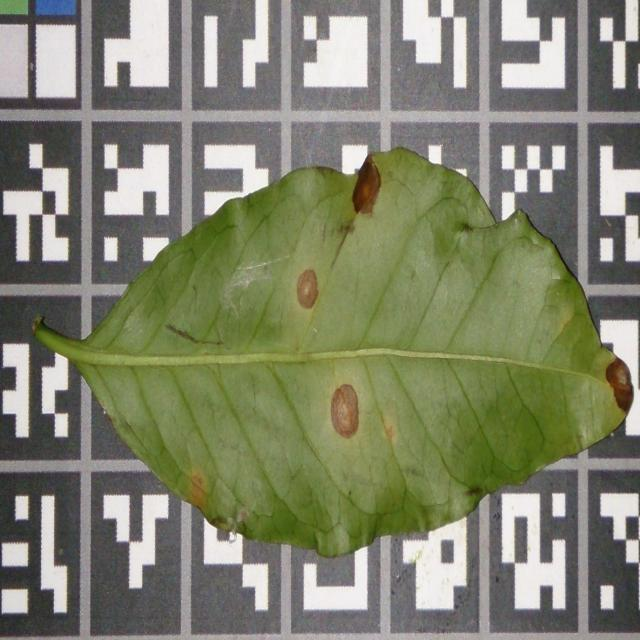Enfermedad-Mancha-de-hierro: (34, 149, 634, 561)
